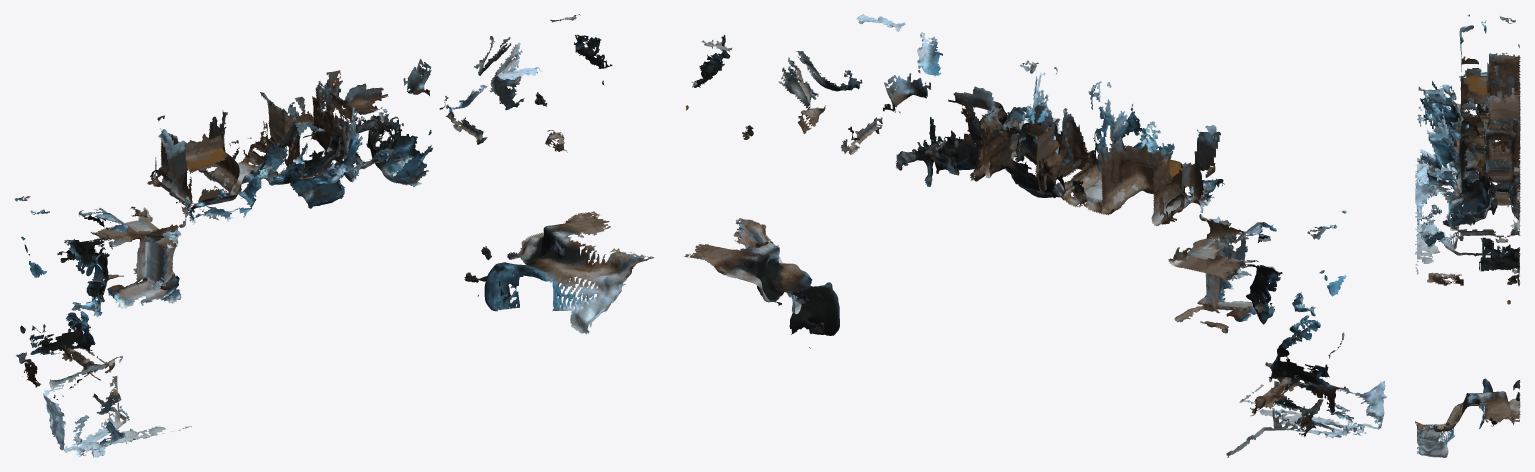
File: oda_mesh_kesik.obj
The picture shows the model from 3 angles, left to right: view 1: azimuth 30°, elevation 25°; view 2: azimuth 150°, elevation 25°; view 3: azimuth 270°, elevation 25°; orthographic projection. The views are drawn at different scales.
Bounding box in the file's own units: 7.54 × 3.42 × 1.26.
